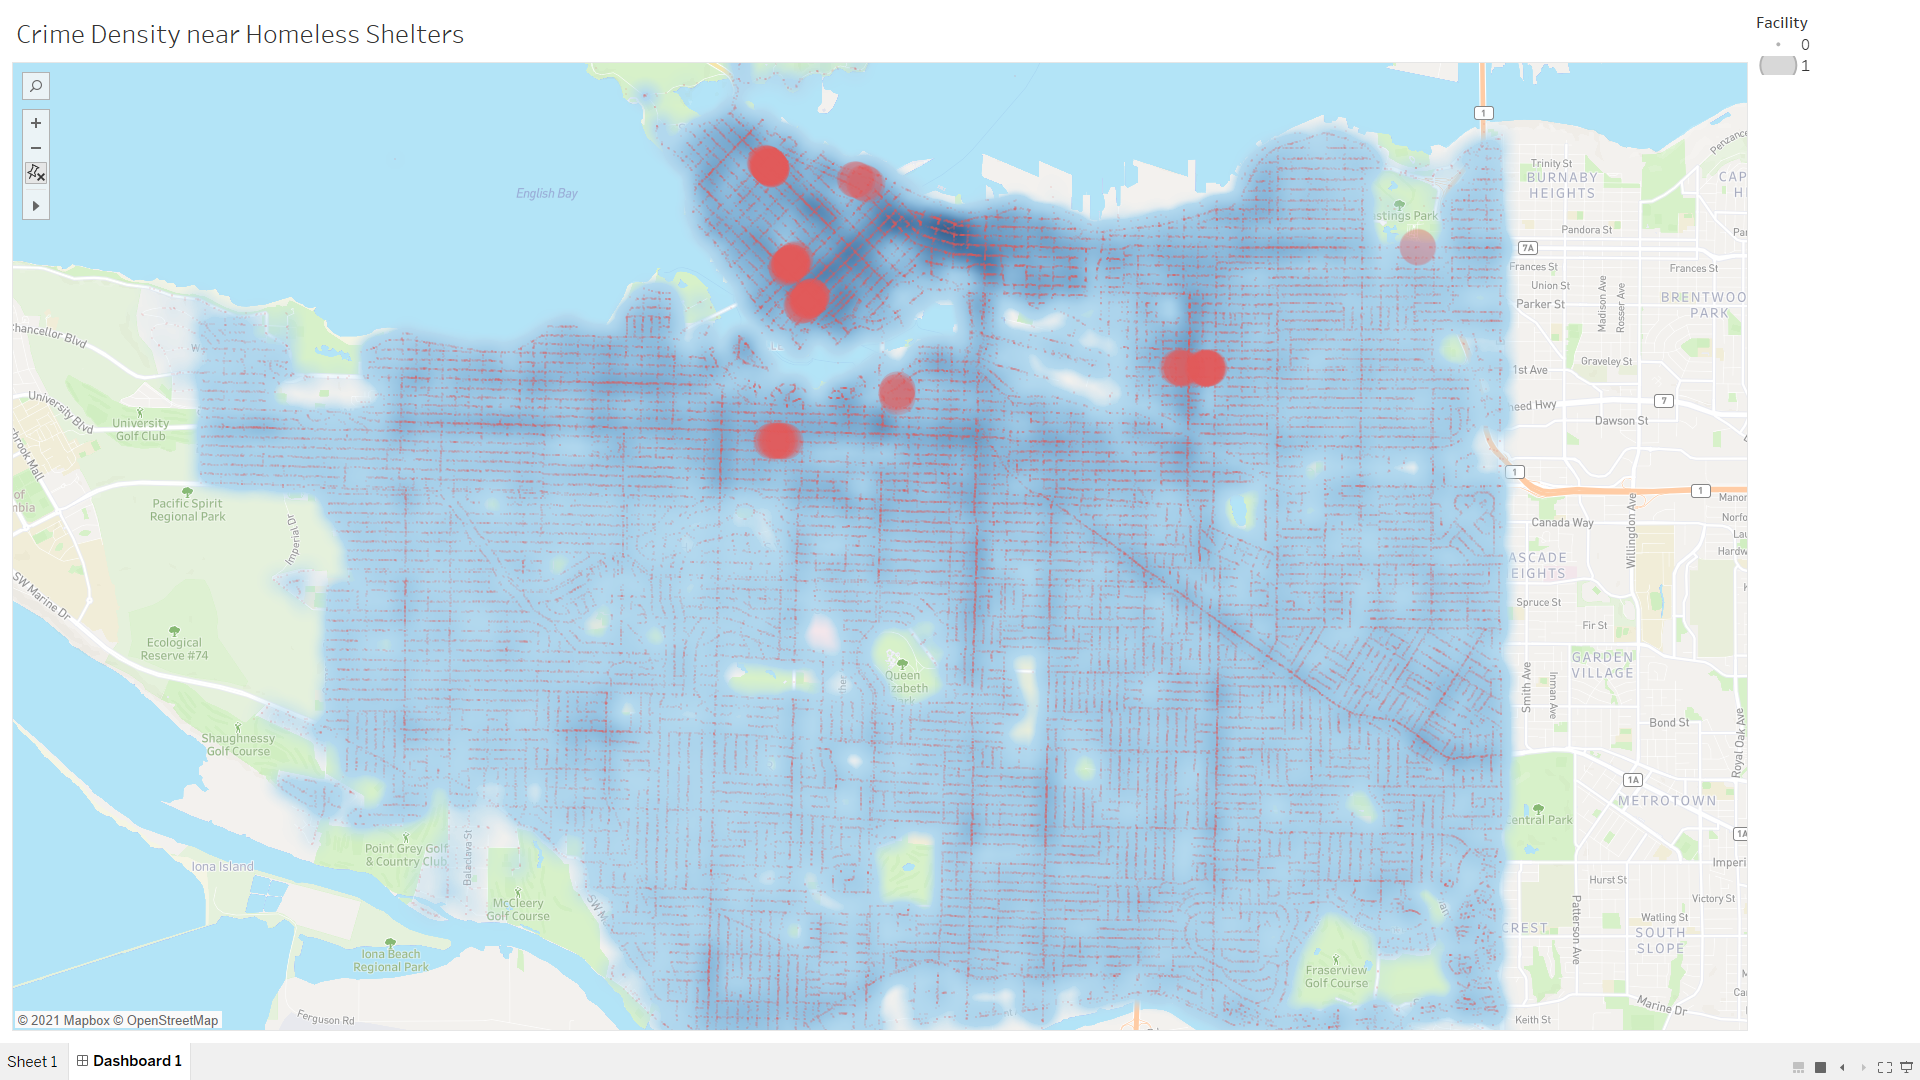

The page's visual inventory and layout, read from the dashboard file:
{"tool":"tableau","page":{"name":"Dashboard 1","canvas":[1000,1000],"units":"permille","ordinal":0},"visuals":[{"type":"worksheet","title":"Sheet 1","mark":"Automatic","box":[4.8,9.3,893.8,981.4]},{"type":"legend","title":"Sheet 1","param":"[federated.1s4b5z10wqg3g819w9l4s04un8us].[none:TYPE:nk]","box":[898.6,9.3,96.6,278.7]}]}

Visuals, with their boxes on the dashboard's canvas, which has no fixed pixel size, in thousandths of its width and height (x1, y1, x2, y2). These are canvas units, not pixel positions in the 1920x1080 screenshot, which may show the page scaled, cropped or inside an application window:
"Sheet 1" worksheet: {"left": 5, "top": 9, "right": 899, "bottom": 991}
"Sheet 1" legend: {"left": 899, "top": 9, "right": 995, "bottom": 288}
